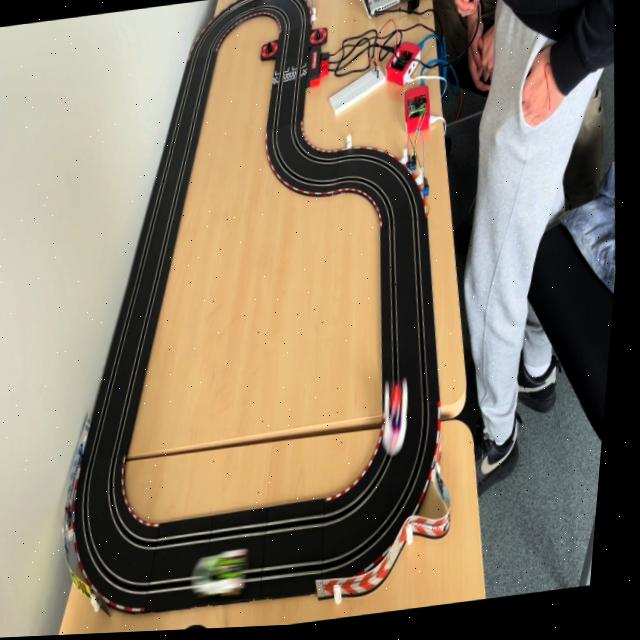mario: (384, 376, 423, 466)
yoshi: (194, 545, 269, 604)
